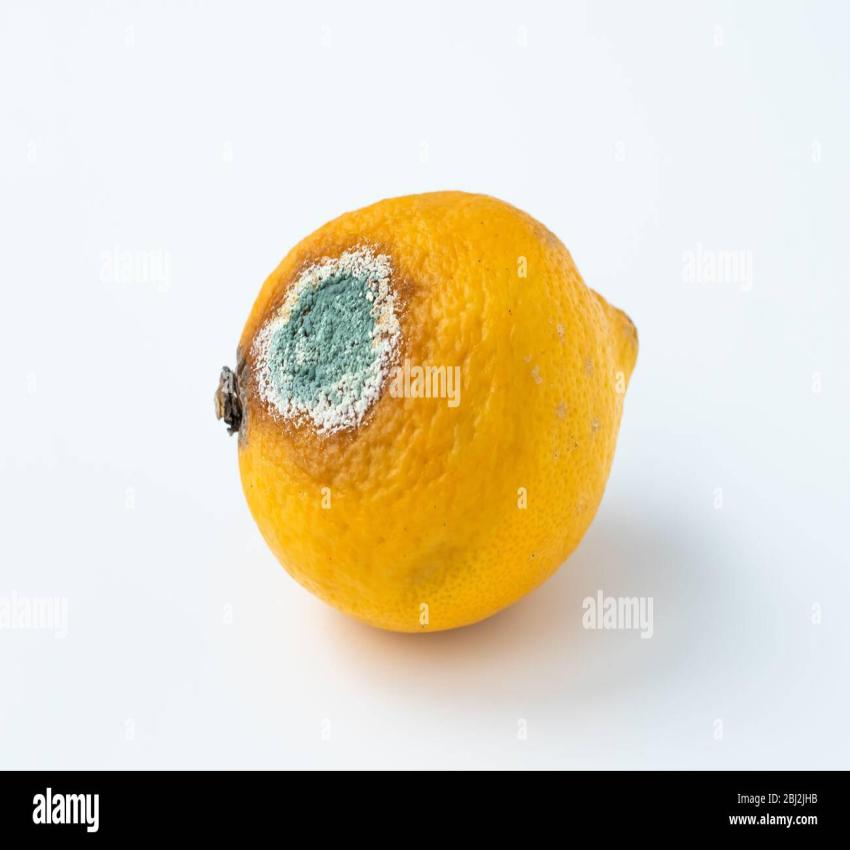Mal estado: (202, 154, 668, 674)
